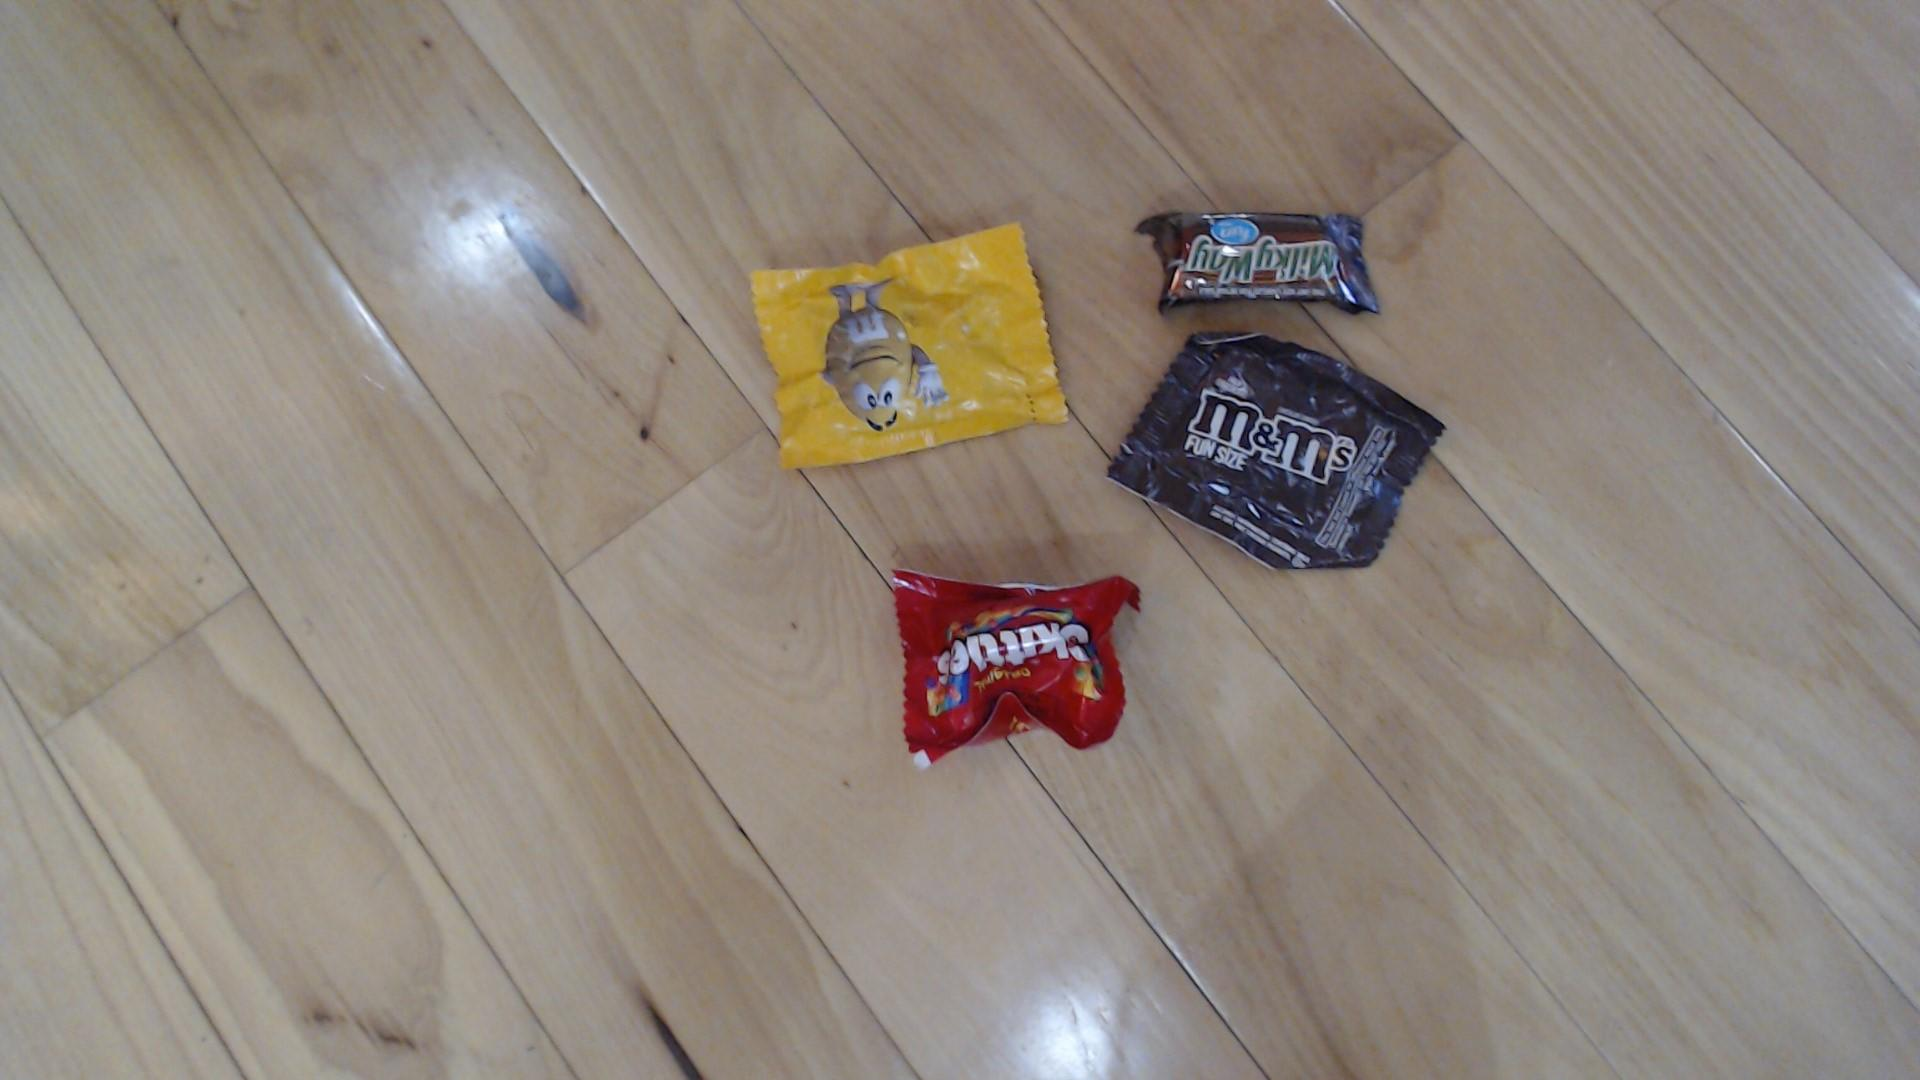MM_regular: (1106, 327, 1449, 574)
MM_yellow: (737, 215, 1087, 491)
milky_way: (1130, 195, 1390, 336)
skittles: (878, 553, 1153, 767)
